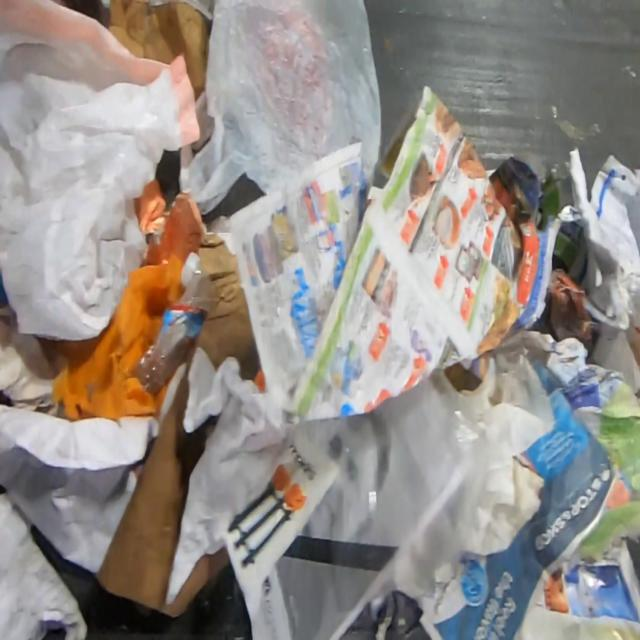cardboard: (93, 363, 230, 619), (107, 0, 208, 100), (196, 231, 254, 368)
rigid_plastic: (135, 250, 216, 396)
soft_plastic: (0, 0, 202, 343), (285, 370, 493, 615), (150, 0, 383, 218), (457, 345, 557, 562)
